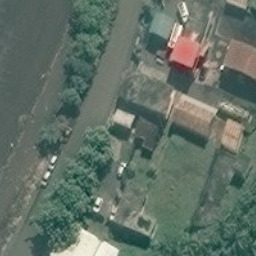buildings: (111, 65, 181, 152), (170, 93, 214, 145), (39, 228, 120, 256), (106, 200, 158, 239), (219, 36, 256, 87), (218, 119, 252, 161), (172, 36, 204, 80), (215, 93, 251, 126), (148, 5, 177, 43), (223, 1, 252, 16)
